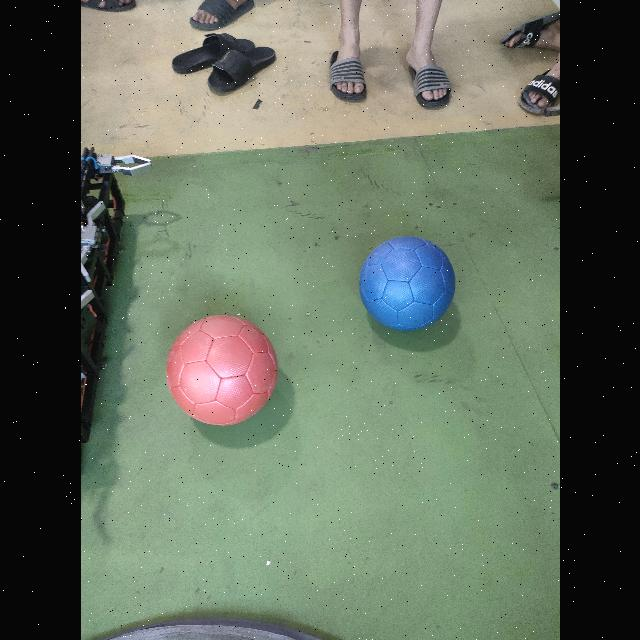B: (359, 237, 454, 331)
R: (166, 316, 277, 425)
